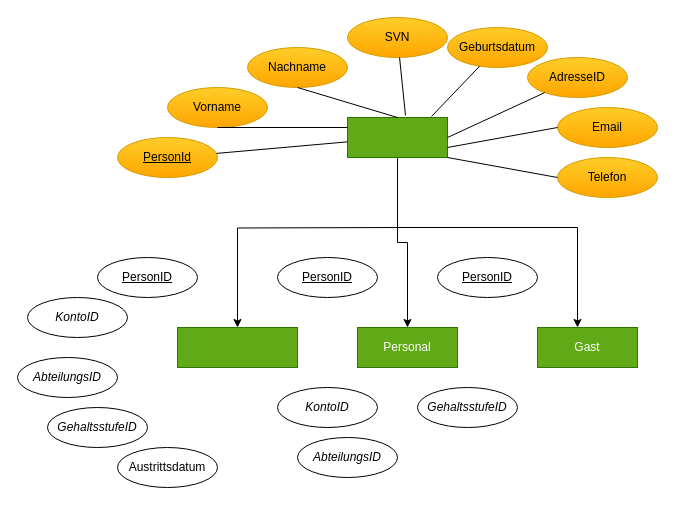
Some shapes in this 675 by 505 pixel diagram are drawn without their labels. The centre of each missing label's shape, as x and y in pixels:
EhamaligeMitarbeiter: [237,347]
Person: [397,137]
